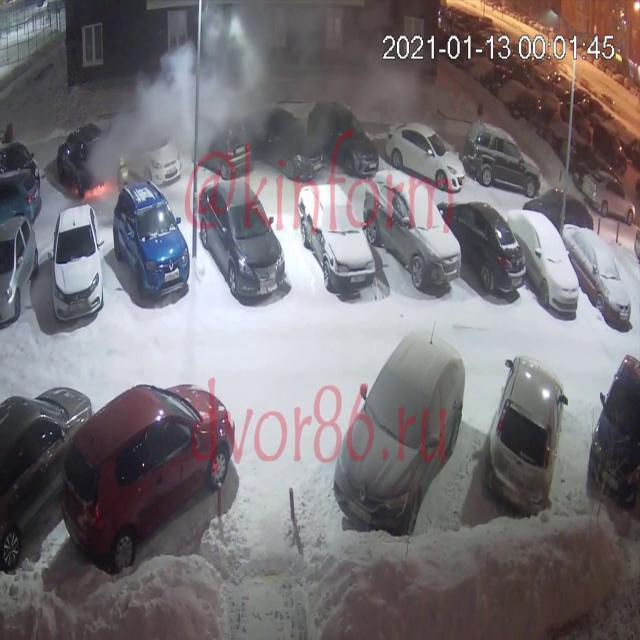Smoke: (87, 2, 429, 154)
